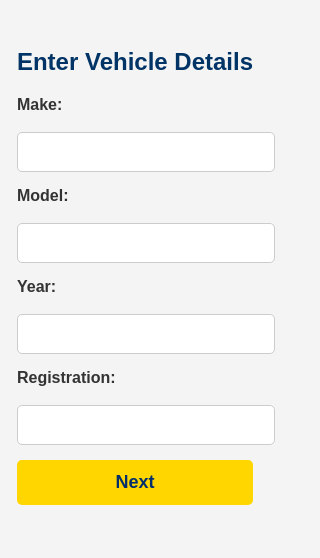
GetQuote Component › shows error messages when submitting empty form
Click the button with test id "GetQuote-nextButton".
click(135, 483)  # box [17, 460, 253, 506]
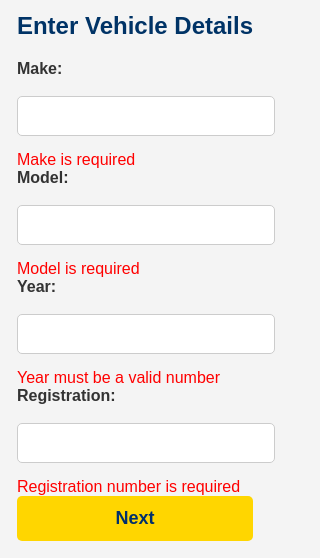
Expected: the text with test id "GetQuote-makeError" reads "Make is required", [17, 152, 135, 168]
Expected: the text with test id "GetQuote-modelError" reads "Model is required", [17, 260, 140, 278]
Expected: the text with test id "GetQuote-yearError" reads "Year must be a valid number", [17, 370, 220, 386]
